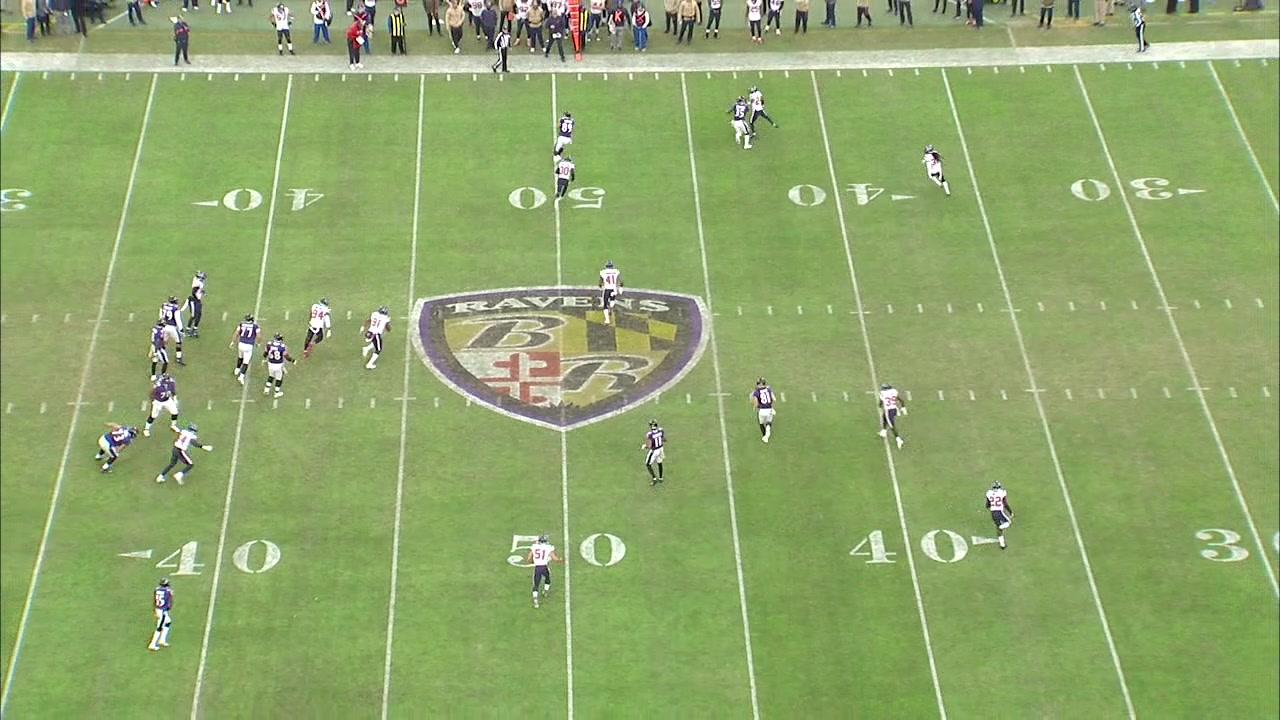defense: (153, 423, 214, 490), (524, 532, 564, 610), (983, 477, 1017, 552), (179, 269, 211, 341), (301, 296, 335, 361), (877, 383, 911, 448), (361, 307, 394, 373), (745, 83, 781, 139), (596, 256, 625, 325), (919, 141, 953, 199), (552, 153, 577, 204)
oline: (91, 417, 141, 476), (226, 311, 264, 386), (141, 373, 183, 438), (261, 331, 300, 400), (157, 292, 187, 367)
qb: (147, 317, 169, 384)
ref: (490, 25, 515, 78), (1126, 3, 1150, 54)
skill: (143, 579, 179, 654), (745, 373, 778, 446), (639, 420, 669, 487), (724, 93, 754, 153), (550, 109, 578, 166)
